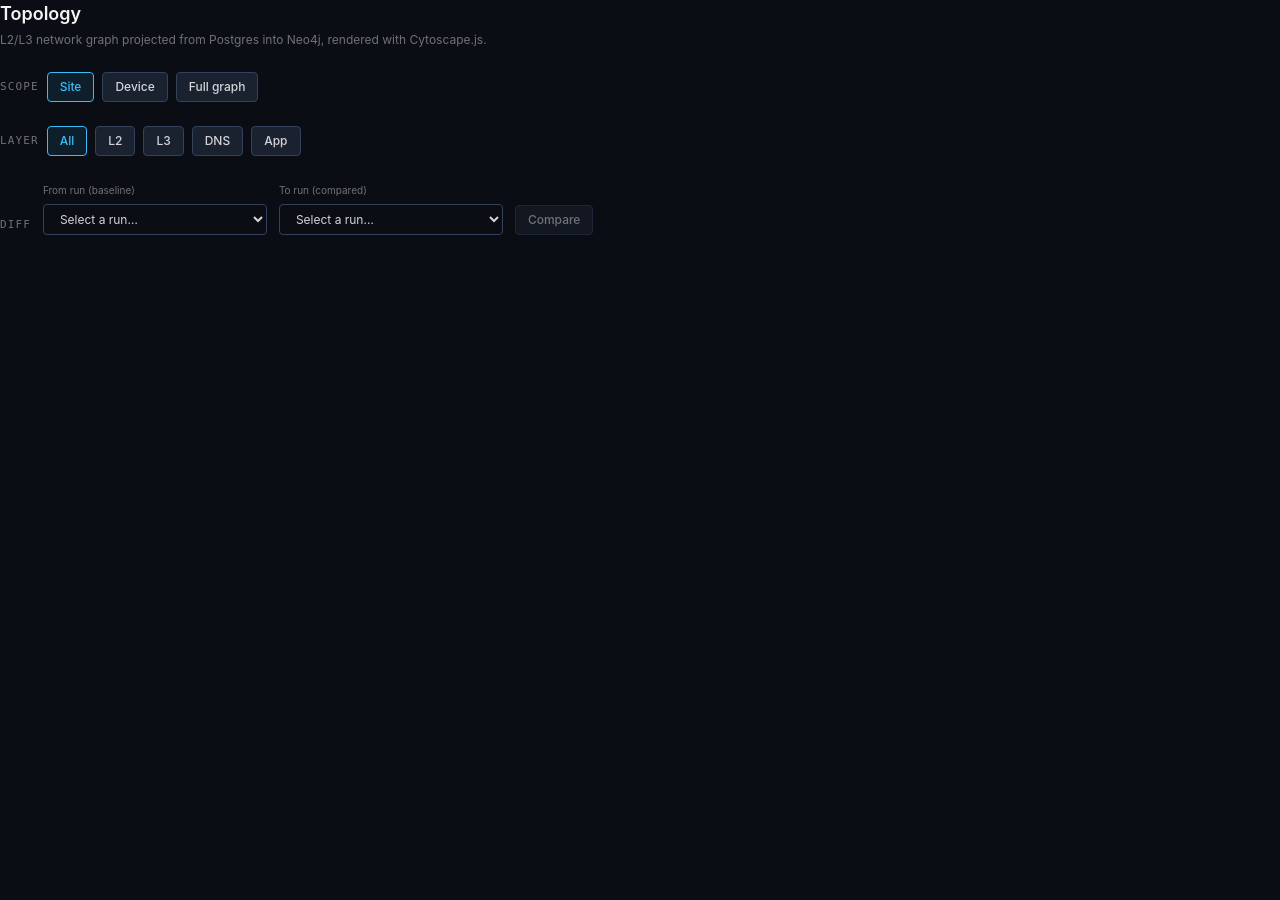
Test case: app_layer_edges_render_per_source_badges › renders a per-source badge for each DEPENDS_ON edge
Click the button with test id "topology-layer-app": (276, 141) [251,126,300,156]
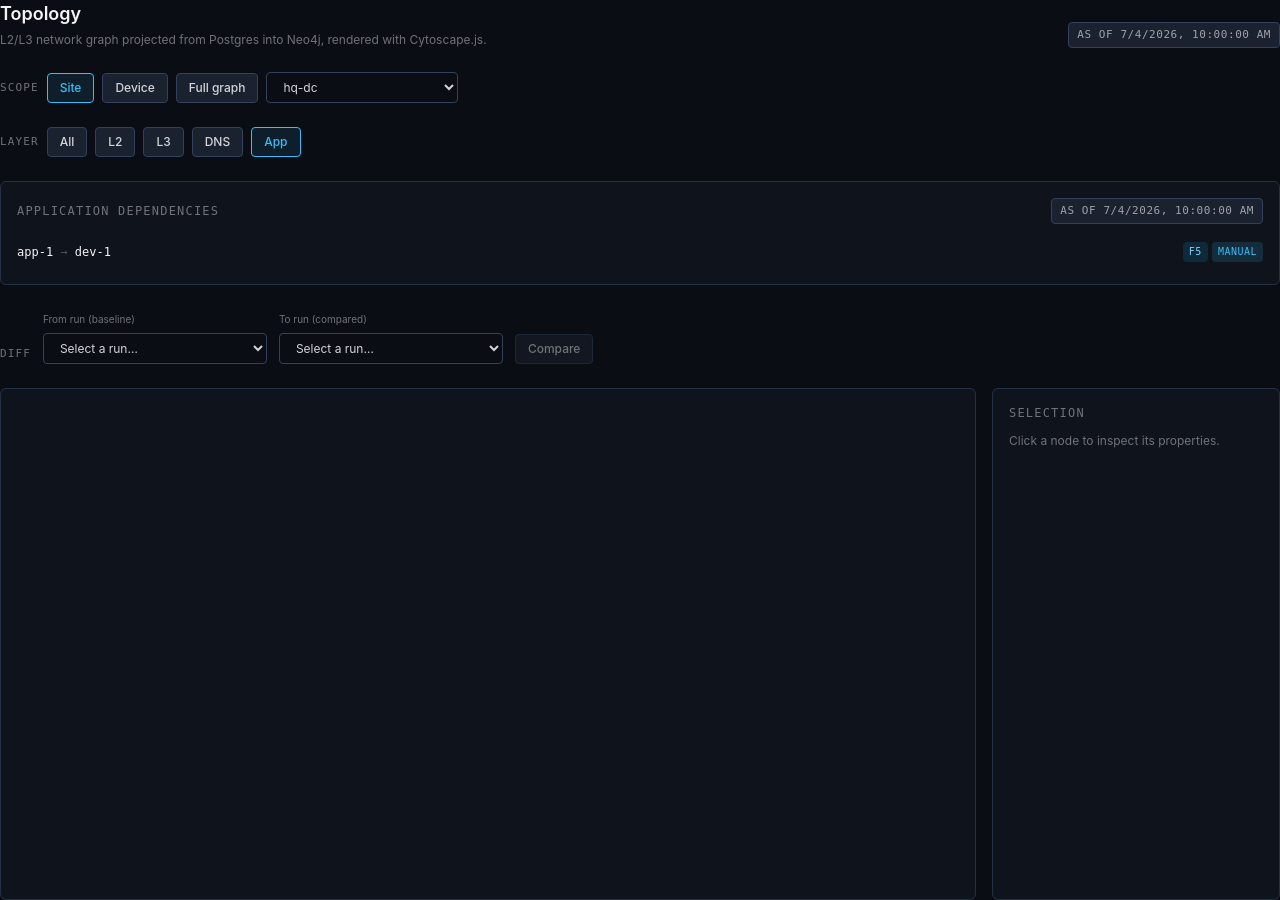
Check: the text with test id "app-edge-0-source-f5" reads "f5", box [1189,246,1202,257]
Check: the text with test id "app-edge-0-source-manual" reads "manual", box [1218,246,1257,257]
Check: the list item with test id "app-dependency-edge-0" shows "app-1", box [17,245,53,259]
